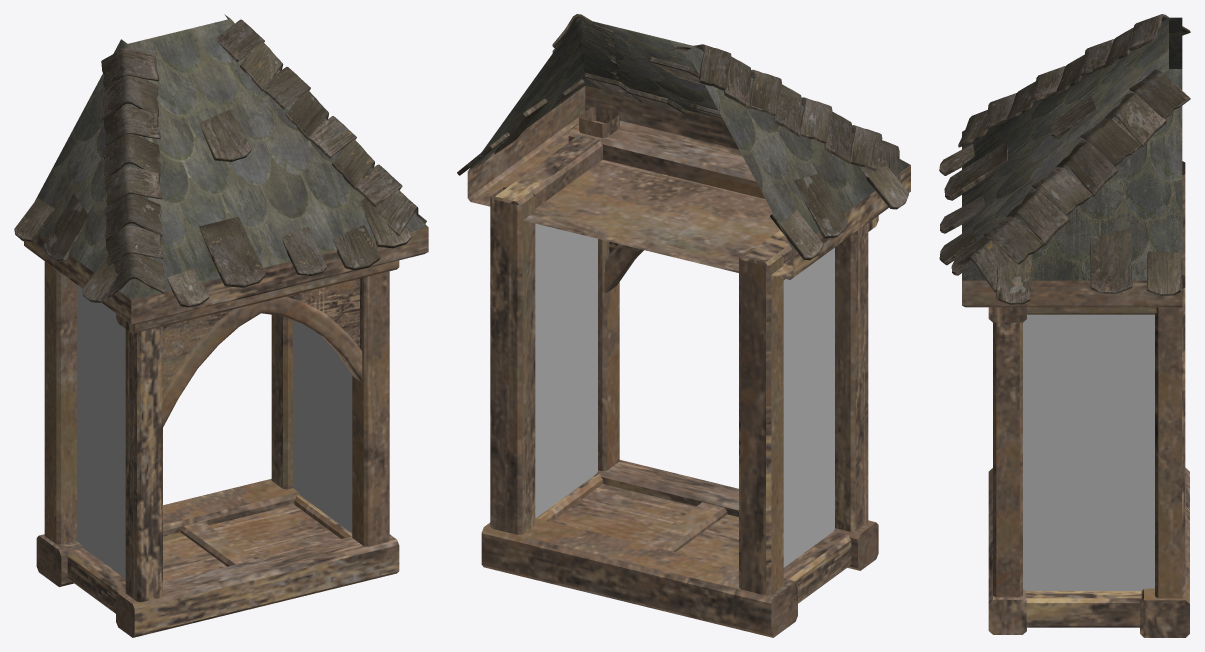
Rendered from HalfTimber_WindowBox_ArchSplit.fbx.
The picture shows the model from 3 angles, left to right: view 1: azimuth 30°, elevation 25°; view 2: azimuth 150°, elevation 25°; view 3: azimuth 270°, elevation 25°; orthographic projection. The views are drawn at different scales.
Visible parts, largest first — view 1: HalfTimber_WindowBox_ArchSplit_LOD0; view 2: HalfTimber_WindowBox_ArchSplit_LOD0; view 3: HalfTimber_WindowBox_ArchSplit_LOD0.
Part boxes in pixels (x1,y1,x2,y2): HalfTimber_WindowBox_ArchSplit_LOD0: (14,14,428,637); HalfTimber_WindowBox_ArchSplit_LOD0: (457,14,910,637); HalfTimber_WindowBox_ArchSplit_LOD0: (939,14,1190,637).
Size of what is drawn, in the model's own units: 52.47 by 77.2 by 33.3.
